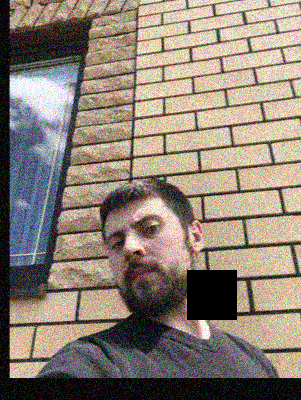without_mask: (105, 211, 195, 319)
